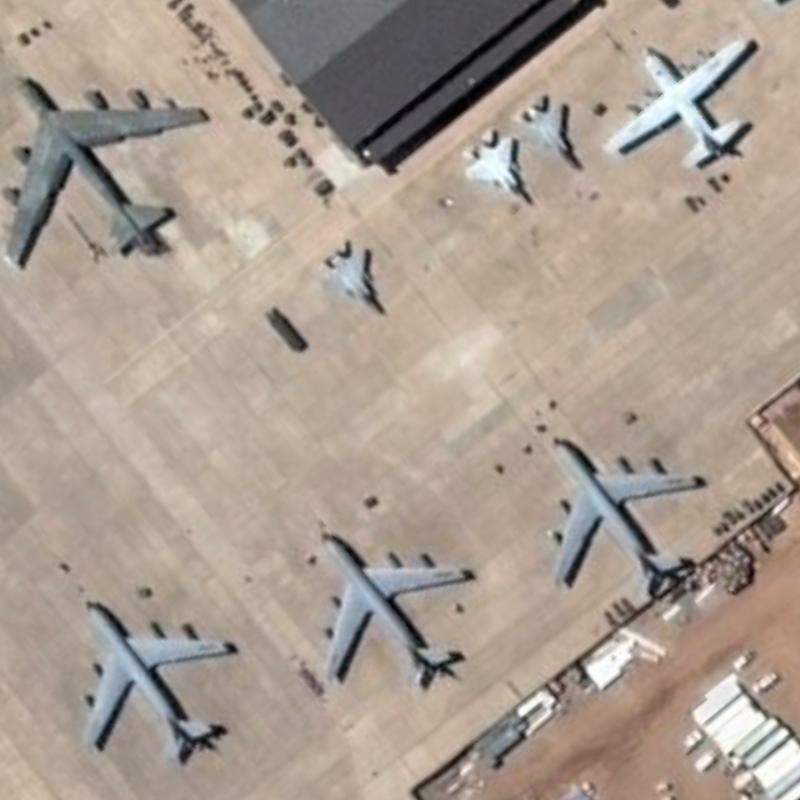A13: (446, 122, 540, 209), (314, 235, 397, 322), (509, 96, 590, 181)
A14: (538, 419, 714, 610), (74, 593, 248, 771), (301, 522, 484, 691)
A2: (595, 27, 769, 177)
A8: (1, 59, 214, 279)
